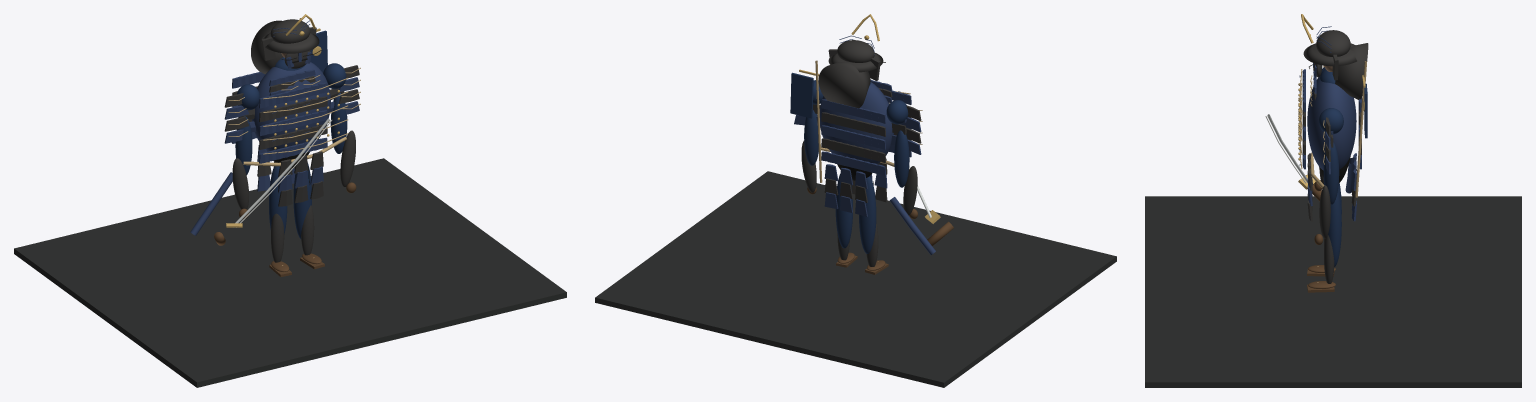
Rendered from actor-uesugi-09.glb.
3 views of the same model, side by side, from view 1: azimuth 30°, elevation 25°; view 2: azimuth 150°, elevation 25°; view 3: azimuth 270°, elevation 25° (orthographic). The views are drawn at different scales.
Visible parts, largest first — view 1: matte charcoal inspection plinth, rounded do cuirass silhouette, rear shikoro neck guard flare, segmented kabuto helmet bowl, right armored upper arm, right kote forearm guard, left kote forearm guard, wide kabuto brim, left hakama trouser leg, right hakama trouser leg, left armored upper arm, left shin greave (+2 smaller); view 2: matte charcoal inspection plinth, rear shikoro neck guard flare, rounded do cuirass silhouette, cloth sashimono banner panel, left hakama trouser leg, left armored upper arm, segmented kabuto helmet bowl, right hakama trouser leg, right armored upper arm, left kote forearm guard, lacquered saya scabbard at left hip; view 3: matte charcoal inspection plinth, rounded do cuirass silhouette, rear shikoro neck guard flare, segmented kabuto helmet bowl, right hakama trouser leg, wide kabuto brim, right armored upper arm, right kote forearm guard, right shoulder undercloth, right shin greave, bamboo sashimono back pole.
Boxes of the visible parts, bbox=[...] form: matte charcoal inspection plinth: bbox=[14, 158, 566, 387]; rounded do cuirass silhouette: bbox=[252, 62, 330, 151]; rear shikoro neck guard flare: bbox=[251, 20, 283, 74]; segmented kabuto helmet bowl: bbox=[270, 19, 310, 43]; right armored upper arm: bbox=[330, 93, 347, 153]; right kote forearm guard: bbox=[340, 130, 355, 186]; left kote forearm guard: bbox=[232, 158, 248, 209]; wide kabuto brim: bbox=[261, 33, 319, 53]; left hakama trouser leg: bbox=[269, 166, 287, 234]; right hakama trouser leg: bbox=[293, 163, 311, 239]; left armored upper arm: bbox=[235, 116, 252, 174]; left shin greave: bbox=[271, 213, 284, 262]; matte charcoal inspection plinth: bbox=[595, 171, 1116, 387]; rear shikoro neck guard flare: bbox=[818, 61, 870, 108]; rounded do cuirass silhouette: bbox=[819, 82, 893, 164]; cloth sashimono banner panel: bbox=[790, 72, 813, 118]; left hakama trouser leg: bbox=[859, 176, 876, 253]; left armored upper arm: bbox=[894, 130, 909, 187]; segmented kabuto helmet bowl: bbox=[837, 40, 874, 62]; right hakama trouser leg: bbox=[835, 173, 852, 248]; right armored upper arm: bbox=[804, 110, 818, 165]; left kote forearm guard: bbox=[903, 166, 917, 215]; lacquered saya scabbard at left hip: bbox=[889, 197, 935, 254]; matte charcoal inspection plinth: bbox=[1145, 196, 1521, 387]; rounded do cuirass silhouette: bbox=[1307, 76, 1356, 170]; rear shikoro neck guard flare: bbox=[1335, 43, 1368, 99]; segmented kabuto helmet bowl: bbox=[1316, 30, 1350, 56]; right hakama trouser leg: bbox=[1328, 189, 1341, 267]; wide kabuto brim: bbox=[1303, 43, 1356, 66]; right armored upper arm: bbox=[1323, 142, 1339, 204]; right kote forearm guard: bbox=[1319, 185, 1330, 238]; right shoulder undercloth: bbox=[1319, 108, 1343, 134]; right shin greave: bbox=[1324, 235, 1334, 283]; bamboo sashimono back pole: bbox=[1355, 61, 1366, 197].
Bounding box in the file's own units: 4.2 × 2.96 × 3.6.
